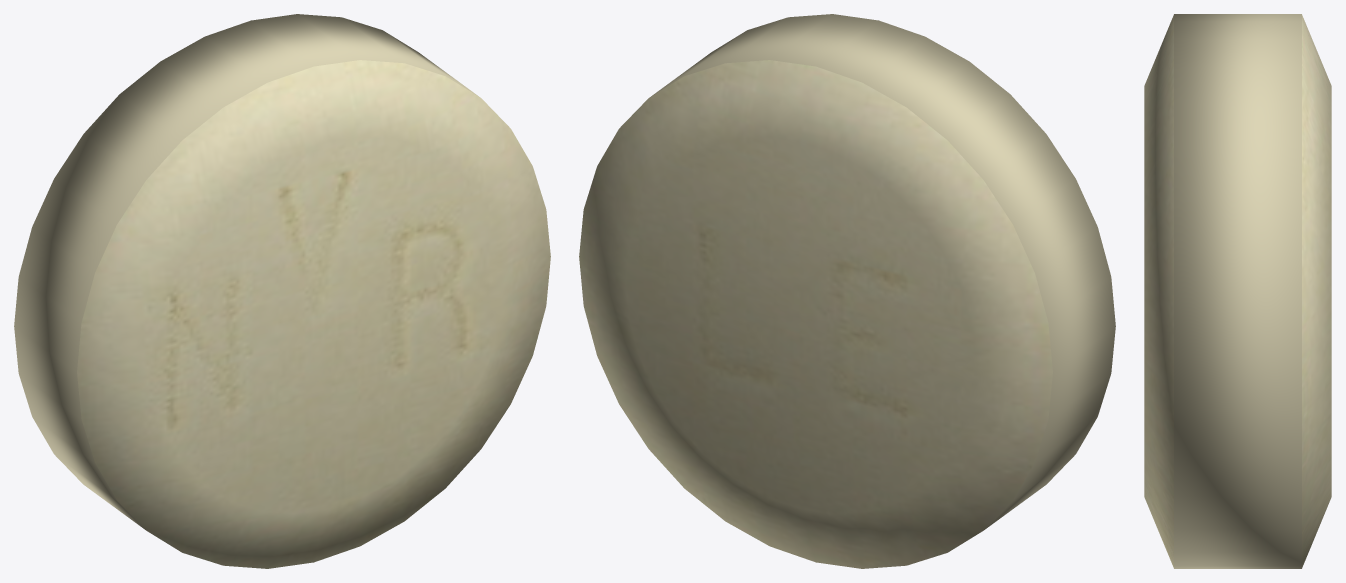
Rendered from 20140311GOPHDRGPT01163.fbx.
3 views of the same model, side by side, from view 1: azimuth 30°, elevation 25°; view 2: azimuth 150°, elevation 25°; view 3: azimuth 270°, elevation 25° (orthographic).
Parts seen in each view (by area): view 1: 圓柱體; view 2: 圓柱體; view 3: 圓柱體.
Boxes of the visible parts, x1,y1,x2,y2 form: 圓柱體: [14, 14, 550, 568]; 圓柱體: [579, 14, 1115, 568]; 圓柱體: [1144, 14, 1331, 568].
Size of the model in its own units: 0.9931 by 0.9931 by 0.335.
Materials: 2 (1 with a texture image).
